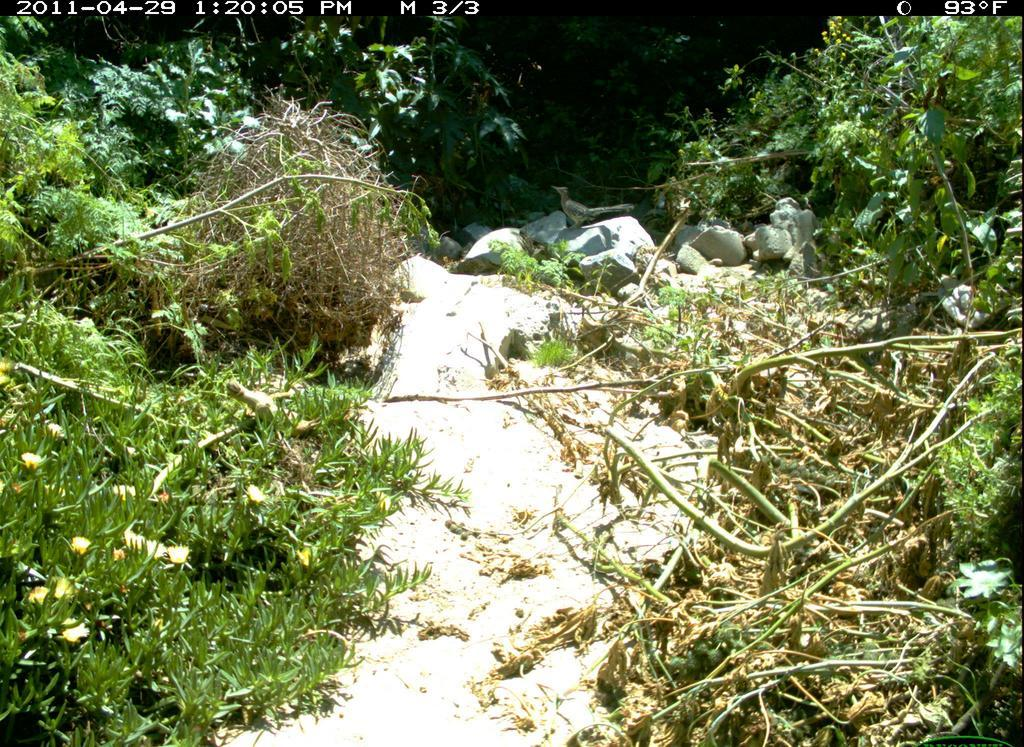bird: (542, 172, 643, 236)
